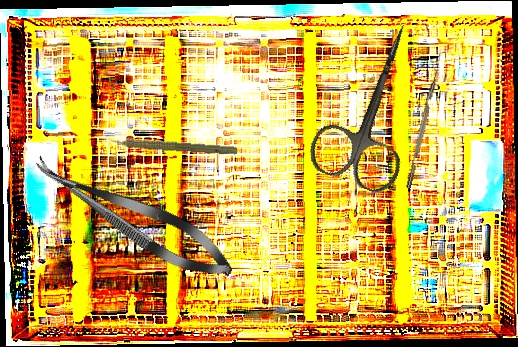Chopper: (400, 64, 441, 189)
Handpiece: (101, 132, 238, 157)
Iris Scissors: (302, 8, 449, 199)
Micro Scissor: (25, 143, 242, 292)
